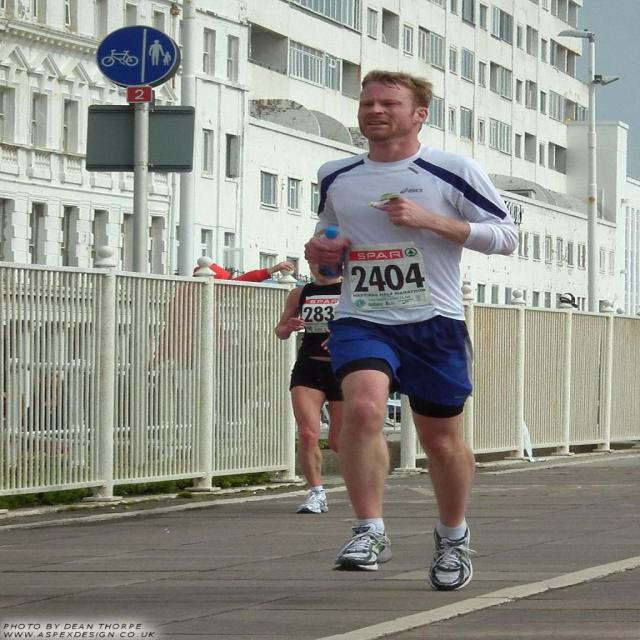Bib: (346, 265, 426, 295), (302, 305, 337, 326)
